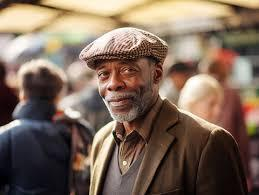cap: (76, 20, 181, 67)
